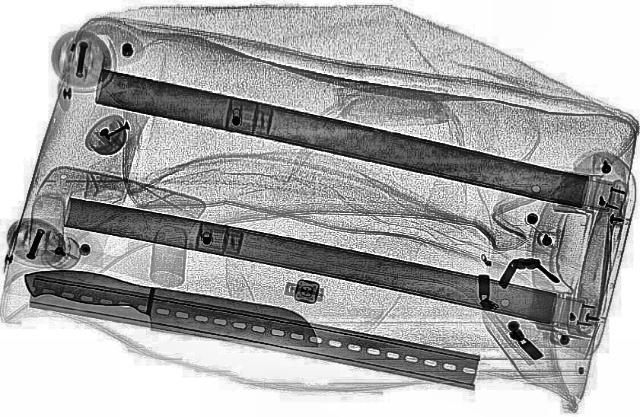Knife: (10, 262, 336, 356)
